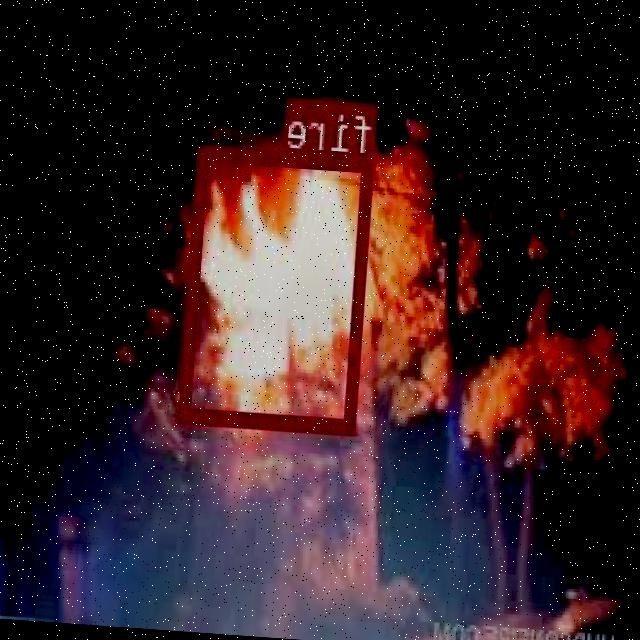fire: (181, 142, 376, 432)
